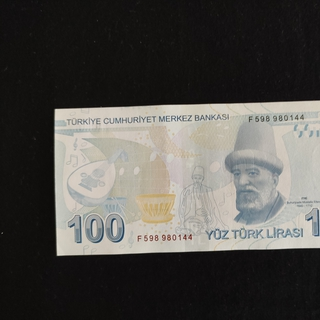100TLBack: (53, 98, 320, 255)
